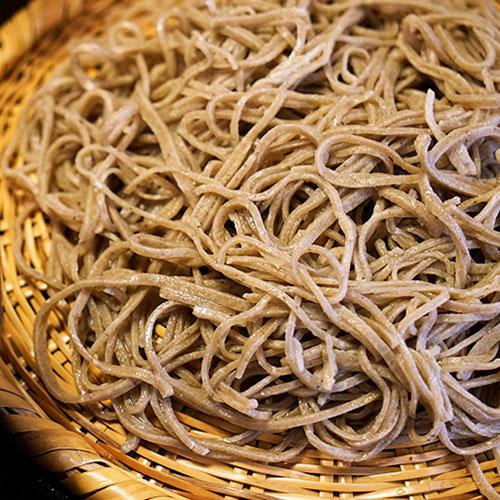Soba: (25, 2, 500, 460)
